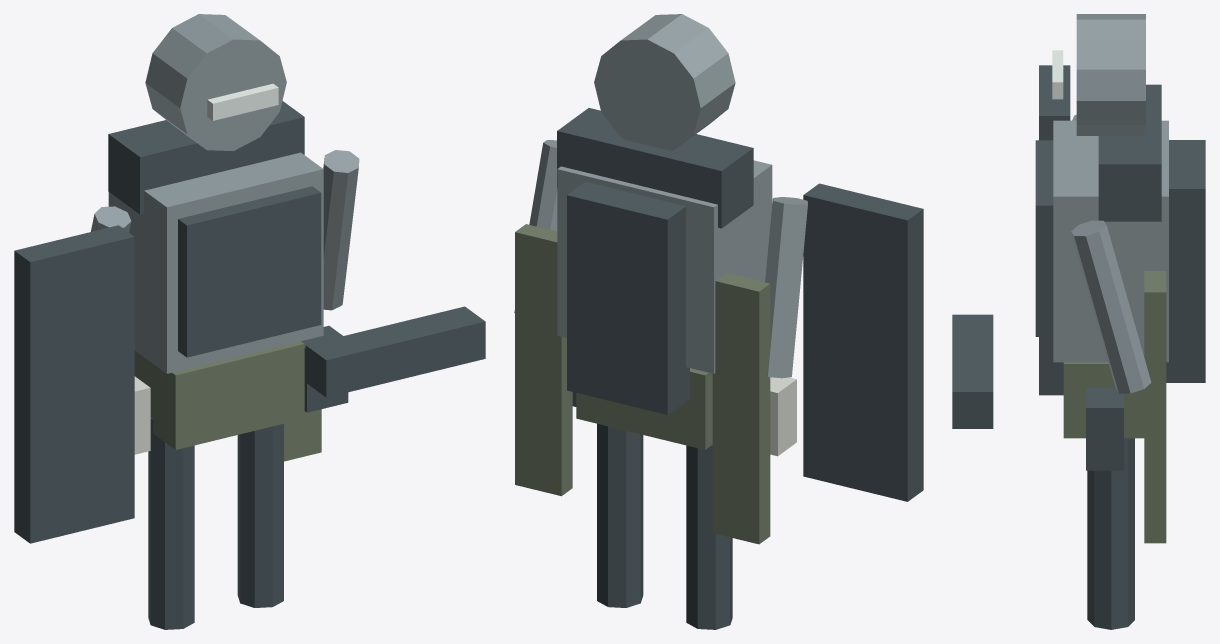
Rendered from warden-operator-v1.glb.
3 renders of one model, left to right at view 1: azimuth 30°, elevation 25°; view 2: azimuth 150°, elevation 25°; view 3: azimuth 270°, elevation 25°, orthographic.
Parts seen in each view (by area): view 1: shield:tower, torso:vest, torso:chest, head:helmet, hips:pelvis, weapon:riot-shotgun, torso:high-collar, leftLeg:boot, rightLeg:boot, rightArm:upper, head:visor, torso:long-warden-cloak-right (+3 smaller); view 2: shield:tower, backMount:pack, torso:long-warden-cloak-left, head:helmet, torso:long-warden-cloak-right, torso:chest, torso:high-collar, rightLeg:boot, leftLeg:boot, leftArm:upper, hips:pelvis, hipMount:left (+1 smaller); view 3: torso:chest, backMount:pack, head:helmet, rightLeg:boot, rightArm:upper, torso:high-collar, torso:long-warden-cloak-right, weapon:riot-shotgun, torso:vest, hips:pelvis, hipMount:right, shield:tower (+1 smaller).
Part boxes in pixels (bbox=[...]): shield:tower: bbox=[14, 225, 134, 543]; torso:vest: bbox=[178, 186, 321, 357]; torso:chest: bbox=[108, 152, 323, 373]; head:helmet: bbox=[145, 14, 286, 151]; hips:pelvis: bbox=[134, 341, 304, 449]; weapon:riot-shotgun: bbox=[305, 306, 485, 397]; torso:high-collar: bbox=[108, 101, 304, 214]; leftLeg:boot: bbox=[148, 418, 194, 629]; rightLeg:boot: bbox=[237, 423, 283, 607]; rightArm:upper: bbox=[323, 150, 359, 310]; head:visor: bbox=[207, 83, 278, 120]; torso:long-warden-cloak-right: bbox=[284, 409, 321, 461]; shield:tower: bbox=[803, 183, 923, 501]; backMount:pack: bbox=[567, 182, 689, 414]; torso:long-warden-cloak-left: bbox=[712, 273, 770, 544]; head:helmet: bbox=[594, 14, 735, 150]; torso:long-warden-cloak-right: bbox=[515, 224, 572, 496]; torso:chest: bbox=[557, 160, 772, 373]; torso:high-collar: bbox=[557, 108, 753, 228]; rightLeg:boot: bbox=[597, 423, 643, 607]; leftLeg:boot: bbox=[686, 445, 732, 629]; leftArm:upper: bbox=[765, 197, 807, 378]; hips:pelvis: bbox=[576, 368, 712, 449]; hipMount:left: bbox=[770, 377, 796, 456]; torso:chest: bbox=[1053, 120, 1168, 362]; backMount:pack: bbox=[1166, 140, 1205, 382]; head:helmet: bbox=[1076, 14, 1145, 135]; rightLeg:boot: bbox=[1087, 438, 1134, 629]; rightArm:upper: bbox=[1071, 220, 1151, 393]; torso:high-collar: bbox=[1098, 84, 1161, 221]; torso:long-warden-cloak-right: bbox=[1144, 271, 1166, 543]; weapon:riot-shotgun: bbox=[952, 314, 993, 428]; torso:vest: bbox=[1035, 140, 1053, 336]; hips:pelvis: bbox=[1063, 362, 1144, 438]; hipMount:right: bbox=[1086, 388, 1123, 470]; shield:tower: bbox=[1039, 65, 1070, 395].
Size of the model in its own units: 1.5 by 2.03 by 0.805.
